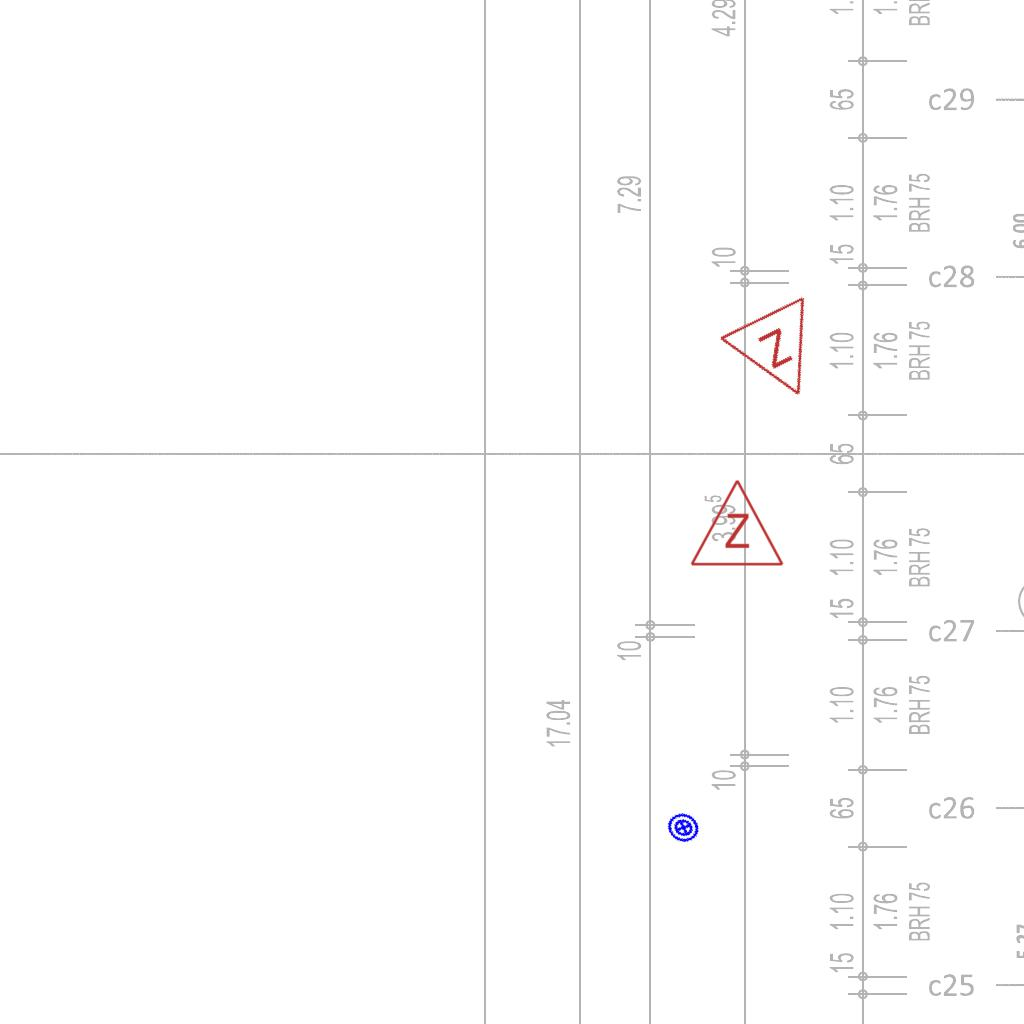Taster_beleuchtet: (661, 805, 706, 850)
Zimmersignalleuchte: (715, 288, 847, 422), (687, 473, 785, 573)
